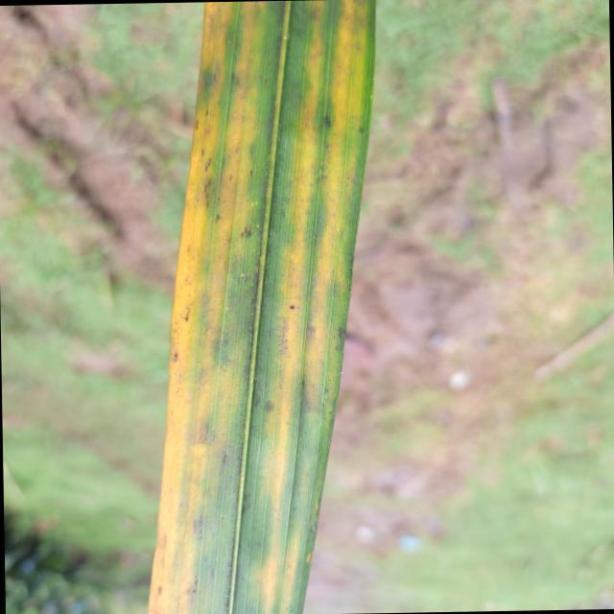Megnesium: (147, 0, 376, 614)
